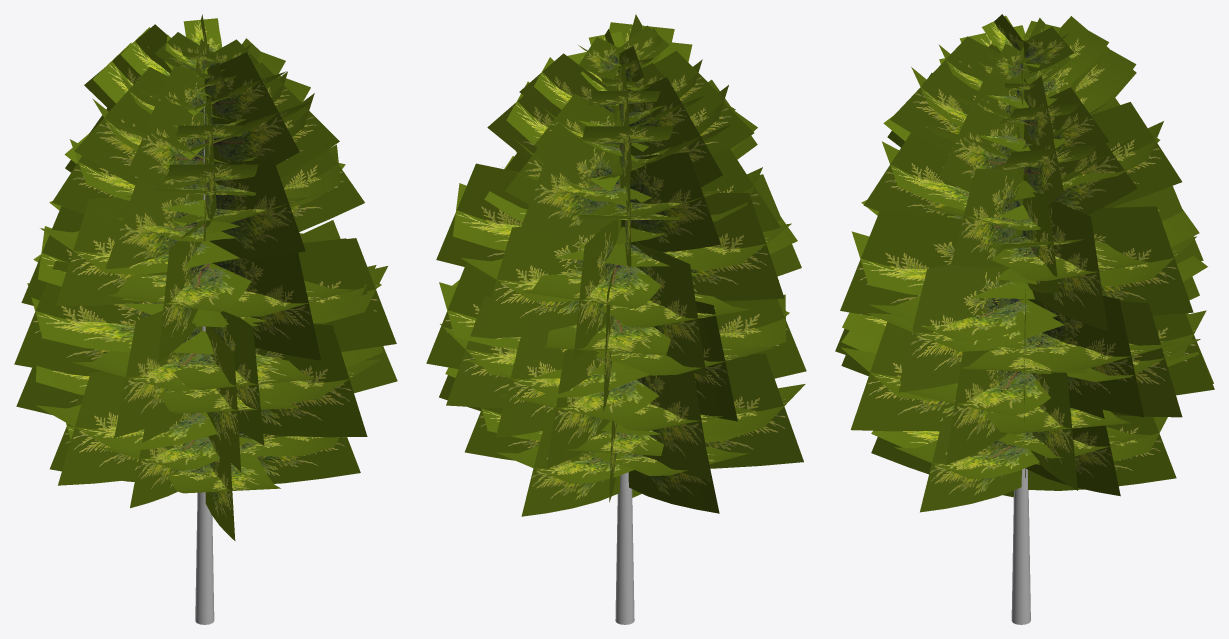
The model's file is Tree2.fbx.
3 renders of one model, left to right at view 1: azimuth 30°, elevation 25°; view 2: azimuth 150°, elevation 25°; view 3: azimuth 270°, elevation 25°, orthographic.
Visible parts, largest first — view 1: Tree; view 2: Tree; view 3: Tree.
Boxes of the visible parts, x1,y1,x2,y2 form: Tree: (14,14,397,624); Tree: (426,14,806,624); Tree: (835,14,1214,624).
Bounding box in the file's own units: 24.52 × 24.13 × 42.09.
